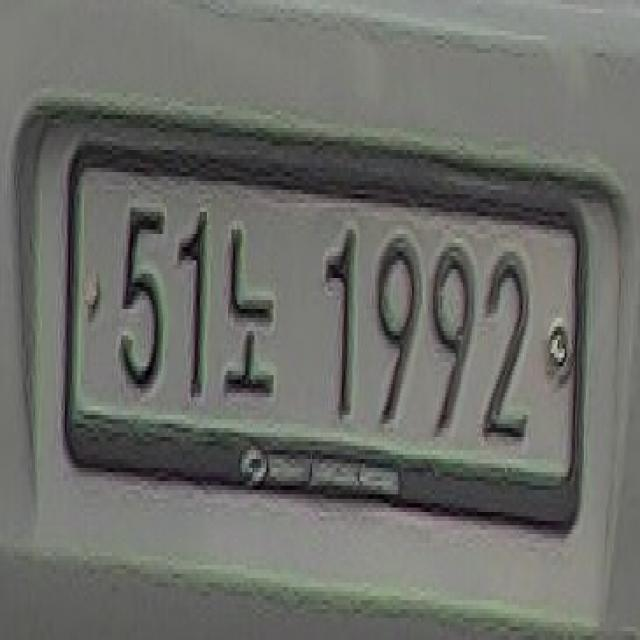1: (318, 216, 357, 432), (178, 203, 210, 412)
2: (483, 239, 544, 459)
5: (112, 196, 168, 396)
9: (373, 227, 422, 438), (434, 231, 479, 449)
license_plate: (52, 124, 588, 546)
no: (225, 212, 282, 416)
